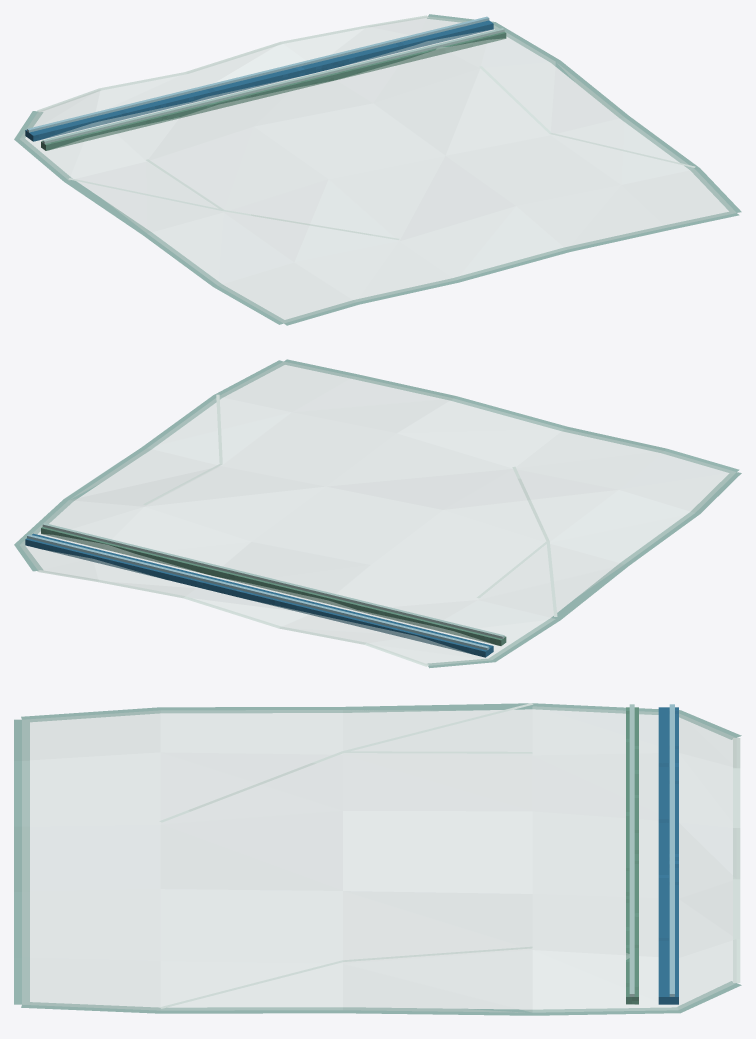
The model's file is bag_zipper.glb.
The picture shows the model from 3 angles, top to bottom: view 1: azimuth 30°, elevation 25°; view 2: azimuth 150°, elevation 25°; view 3: azimuth 270°, elevation 25°; orthographic projection. The views are drawn at different scales.
Visible parts, largest first — view 1: block_clear creased front film, block_upper press seal, block_welded clear side edge (×7), block_lower press seal, block_upper press seal highlight, block_lower press seal highlight, block_welded bottom edge (×3); view 2: block_clear creased front film, block_upper press seal, block_welded clear side edge (×6), block_lower press seal, block_upper press seal highlight, block_lower press seal highlight, block_welded bottom edge (×3); view 3: block_clear creased front film, block_welded clear side edge (×9), block_upper press seal, block_welded bottom edge (×5), block_lower press seal, block_upper press seal highlight, block_lower press seal highlight, block_fine wrinkles in clear film.
Boxes of the visible parts, x1,y1,x2,y2 form: block_clear creased front film: (20,16,736,323); block_upper press seal: (25,20,493,141); block_welded clear side edge (×7): (14,60,741,324); block_lower press seal: (41,32,506,150); block_upper press seal highlight: (27,16,489,132); block_lower press seal highlight: (42,28,504,143); block_welded bottom edge (×3): (353,225,668,304); block_clear creased front film: (20,361,736,665); block_upper press seal: (25,533,493,657); block_welded clear side edge (×6): (64,360,699,661); block_lower press seal: (41,527,506,645); block_upper press seal highlight: (27,534,489,650); block_lower press seal highlight: (42,523,504,638); block_welded bottom edge (×3): (351,374,666,452); block_clear creased front film: (22,706,736,1012); block_welded clear side edge (×9): (21,703,741,1015); block_upper press seal: (658,707,678,1004); block_welded bottom edge (×5): (14,719,29,1004); block_lower press seal: (626,707,638,1004); block_upper press seal highlight: (669,704,674,996); block_lower press seal highlight: (629,704,634,996); block_fine wrinkles in clear film: (343,703,533,752).
Size of the model in its own units: 0.1744 by 0.00779 by 0.1717.
3 materials, 3 textured.
